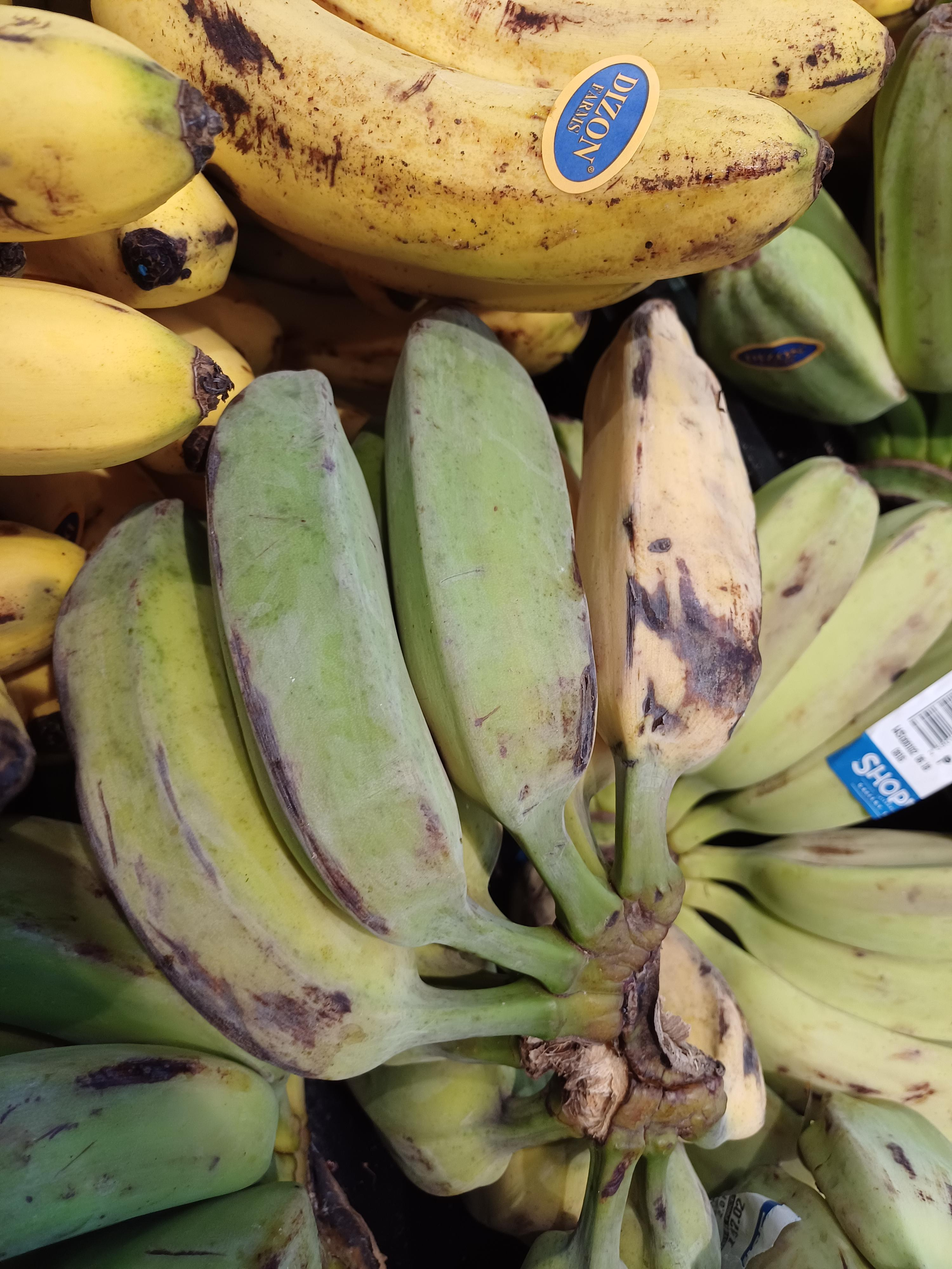underripe: (55, 301, 763, 1079), (699, 457, 952, 1144), (712, 1094, 952, 1269)
